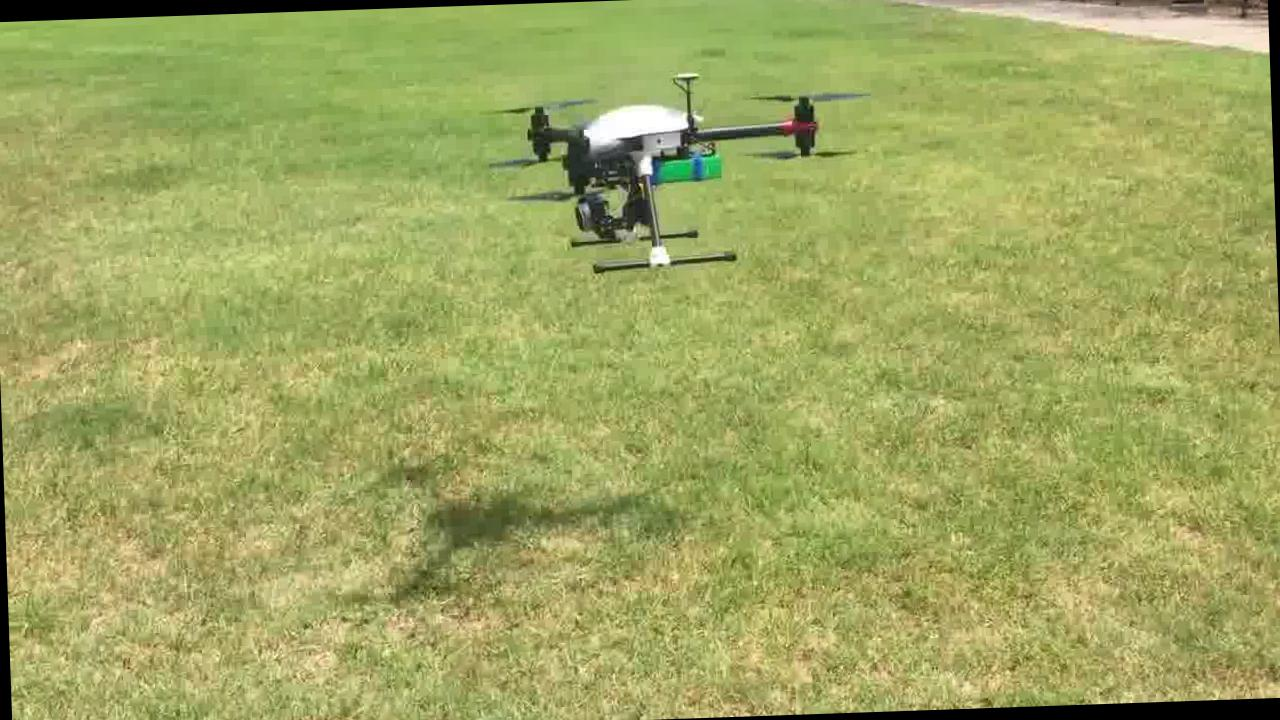drone: (496, 61, 843, 278)
